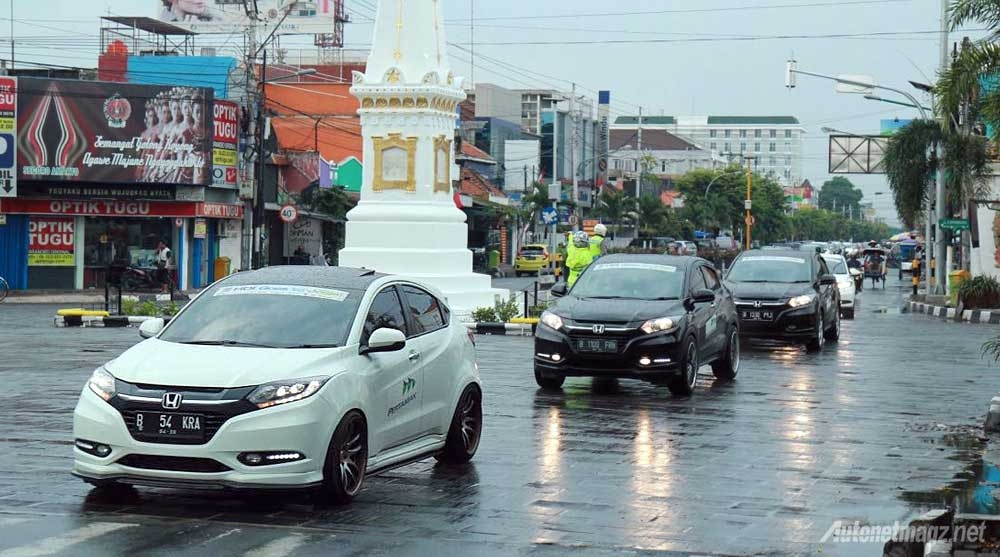plate: (136, 412, 199, 437), (576, 338, 618, 353), (741, 309, 773, 322)
